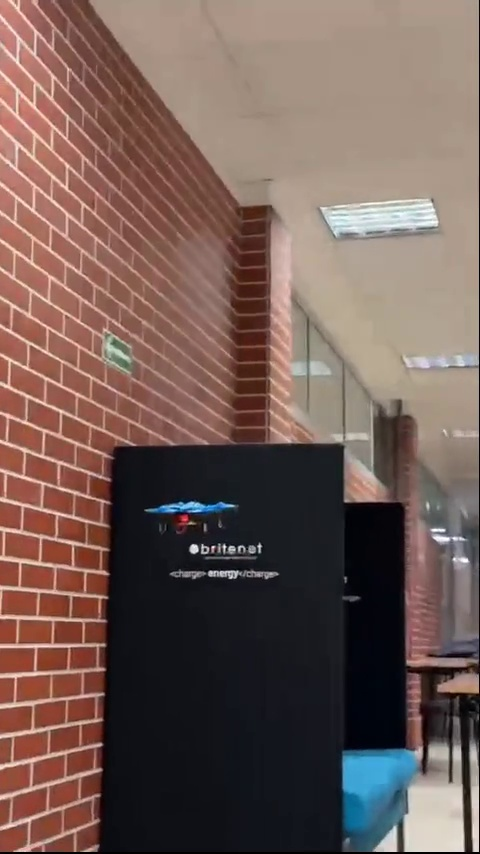drone: (144, 500, 240, 534)
